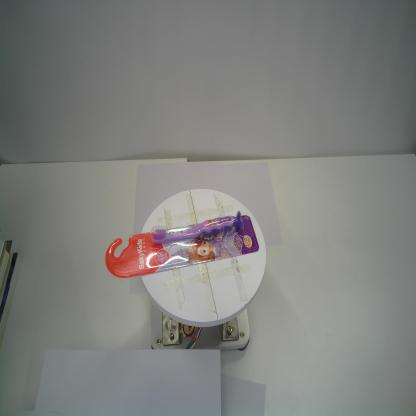Personal Hygiene: (104, 209, 260, 279)
